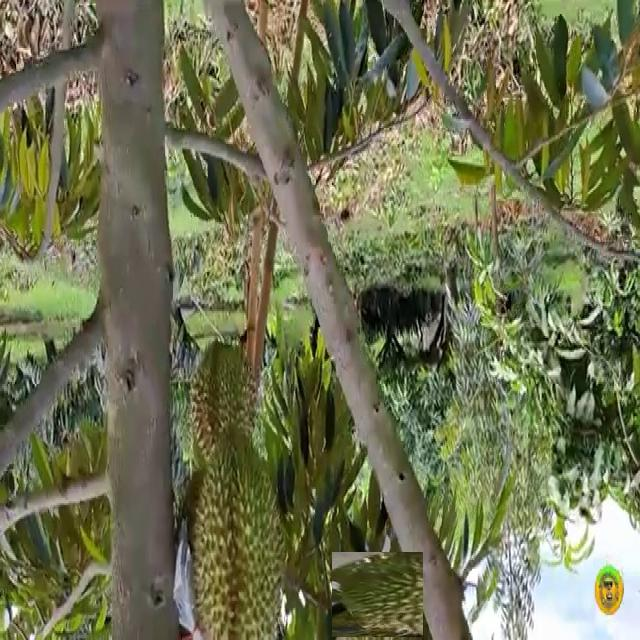durian: (189, 423, 288, 640), (188, 336, 258, 479), (333, 550, 421, 639)
